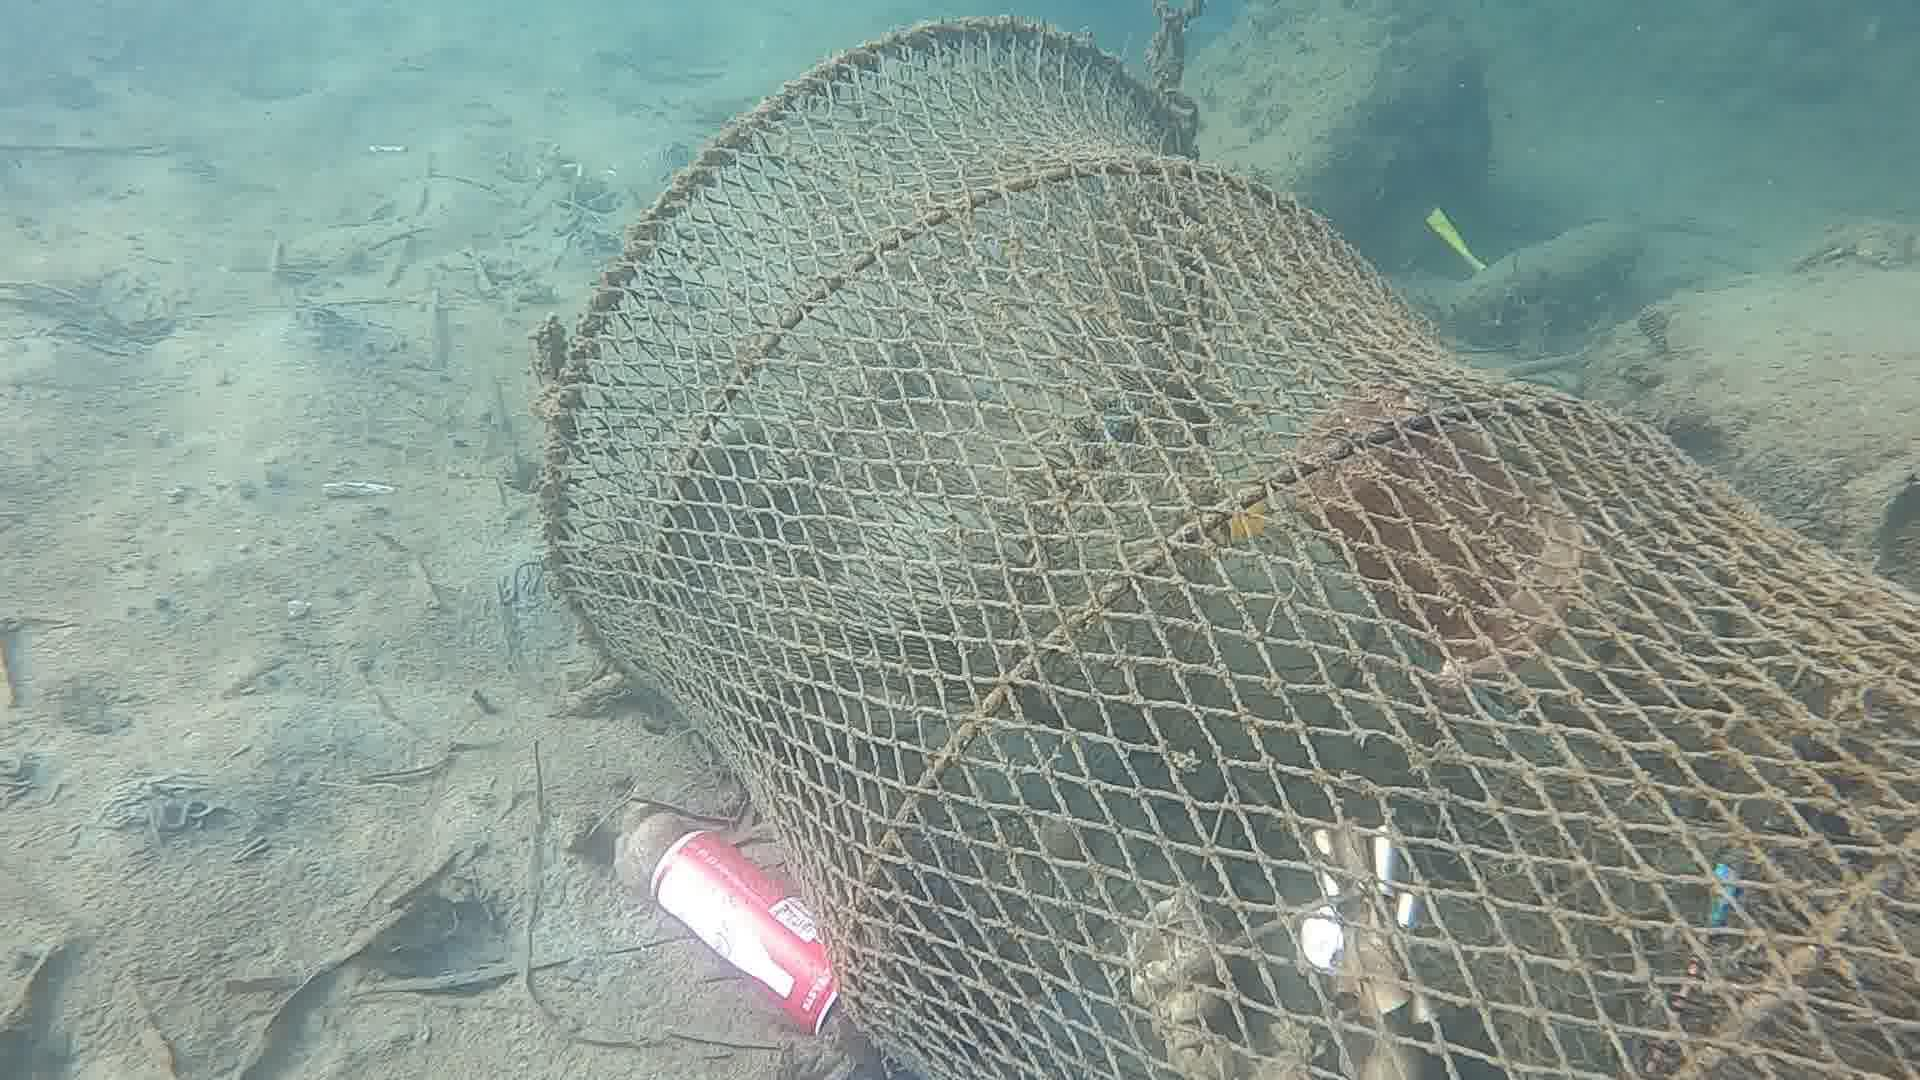spring fish trap: (530, 15, 1920, 1080)
